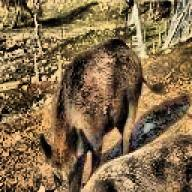boar: (70, 130, 192, 192)
